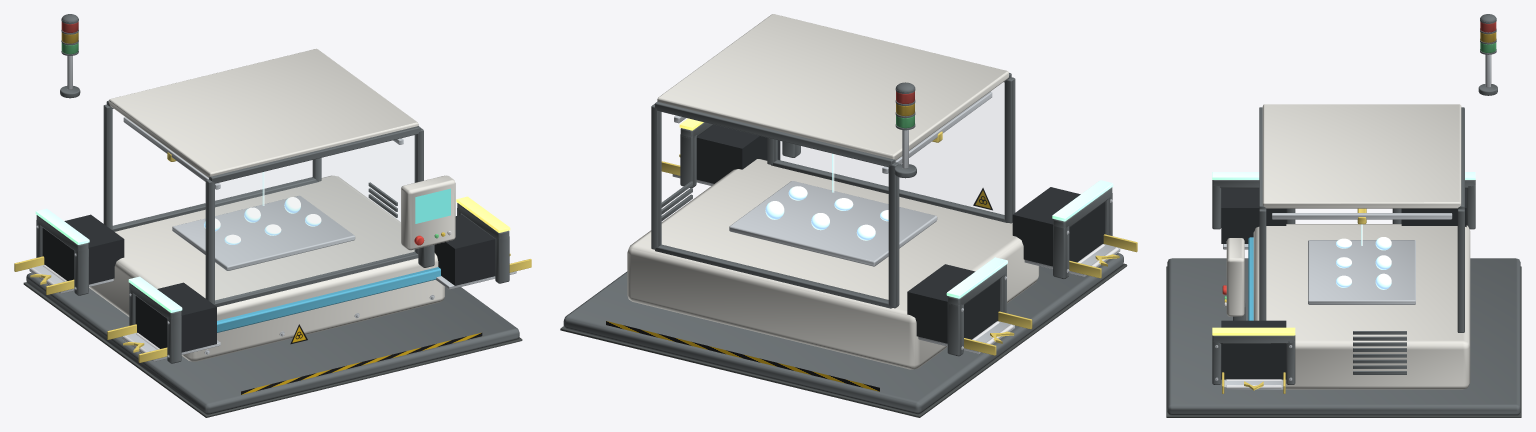
Rendered from impresora.glb.
3 renders of one model, left to right at view 1: azimuth 30°, elevation 25°; view 2: azimuth 150°, elevation 25°; view 3: azimuth 270°, elevation 25°, orthographic. The views are drawn at different scales.
Parts seen in each view (by area): view 1: armario, techo, zocalo, bandeja, boca_entrada1_hueco, boca_entrada0_hueco, boca_salida_hueco, armario_franja, cuadro, marco_x0.75, zocalo_goma, marco_x0.0 (+13 smaller); view 2: armario, techo, zocalo, bandeja, boca_entrada0_hueco, boca_entrada1_hueco, boca_salida_hueco, marco_xb0.75, zocalo_goma, marco_xb0.0, marco_x0.0, marco_poste-1-1 (+11 smaller); view 3: zocalo, armario, techo, bandeja, boca_salida_hueco, boca_entrada1_hueco, zocalo_goma, cuadro, guia1, marco_poste11, marco_poste1-1, boca_entrada0_hueco (+12 smaller).
Boxes of the visible parts, x1,y1,x2,y2 form: armario: (89,175,444,361); techo: (109,48,418,177); zocalo: (26,273,519,414); bandeja: (172,195,355,270); boca_entrada1_hueco: (135,282,216,352); boca_entrada0_hueco: (42,214,124,284); boca_salida_hueco: (434,214,495,285); armario_franja: (217,267,440,332); cuadro: (401,175,455,250); marco_x0.75: (209,126,420,183); zocalo_goma: (23,282,522,417); marco_x0.0: (214,252,418,306); armario: (627,159,1039,369); techo: (657,14,1008,160); zocalo: (563,253,1123,414); bandeja: (729,181,937,266); boca_entrada0_hueco: (907,264,999,343); boca_entrada1_hueco: (1012,187,1105,266); boca_salida_hueco: (696,125,780,183); marco_xb0.75: (655,101,895,167); zocalo_goma: (560,263,1127,417); marco_xb0.0: (655,244,892,308); marco_x0.0: (771,160,1007,222); marco_poste-1-1: (1004,77,1015,223); zocalo: (1167,258,1520,415); armario: (1253,224,1470,389); techo: (1262,104,1461,208); bandeja: (1308,240,1415,304); boca_salida_hueco: (1221,320,1286,379); boca_entrada1_hueco: (1221,188,1286,243); zocalo_goma: (1166,266,1521,417); cuadro: (1226,238,1244,316); guia1: (1272,213,1452,219); marco_poste11: (1457,209,1464,332); marco_poste1-1: (1259,209,1266,320); boca_entrada0_hueco: (1401,188,1466,226).
Size of the model in its own units: 2.44 by 1.67 by 1.97.
Materials: 24 (2 with a texture image).
